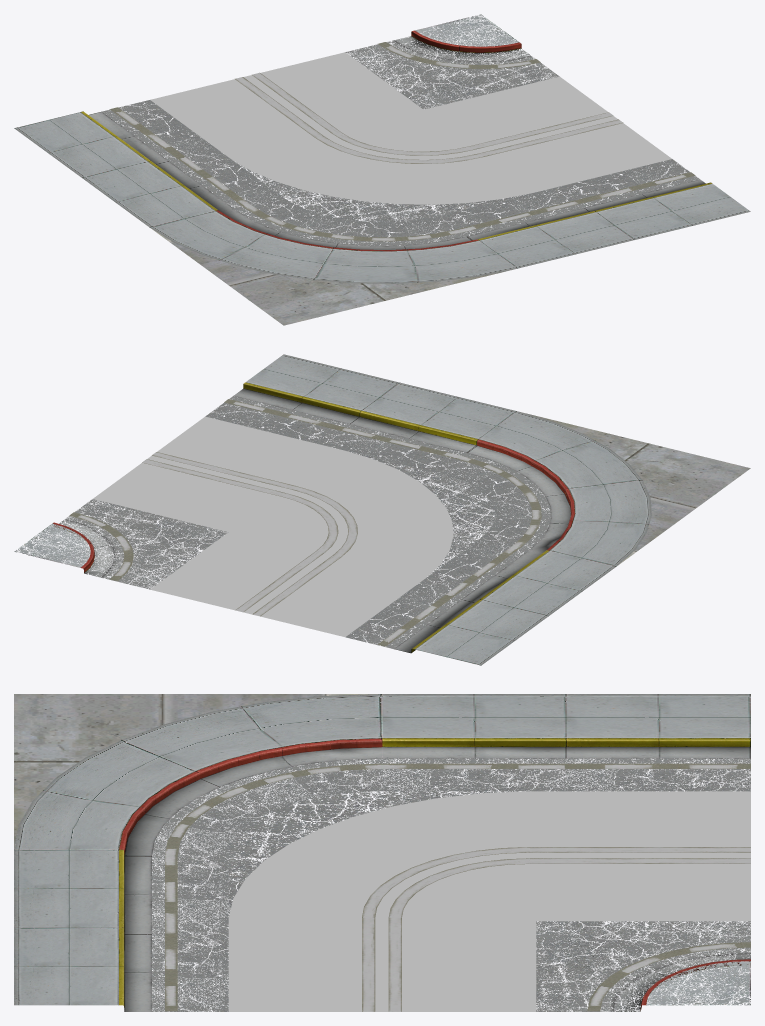
File: RoadTurn.obj
The picture shows the model from 3 angles, top to bottom: view 1: azimuth 30°, elevation 25°; view 2: azimuth 150°, elevation 25°; view 3: azimuth 270°, elevation 25°; orthographic projection. The views are drawn at different scales.
Parts seen in each view (by area): view 1: Road-Turn; view 2: Road-Turn; view 3: Road-Turn.
Boxes of the visible parts, left/top/right/bottom form: Road-Turn: left=14, top=14, right=750, bottom=325; Road-Turn: left=14, top=354, right=750, bottom=665; Road-Turn: left=14, top=694, right=750, bottom=1011.
Bounding box in the file's own units: 20 × 0.195 × 20.
